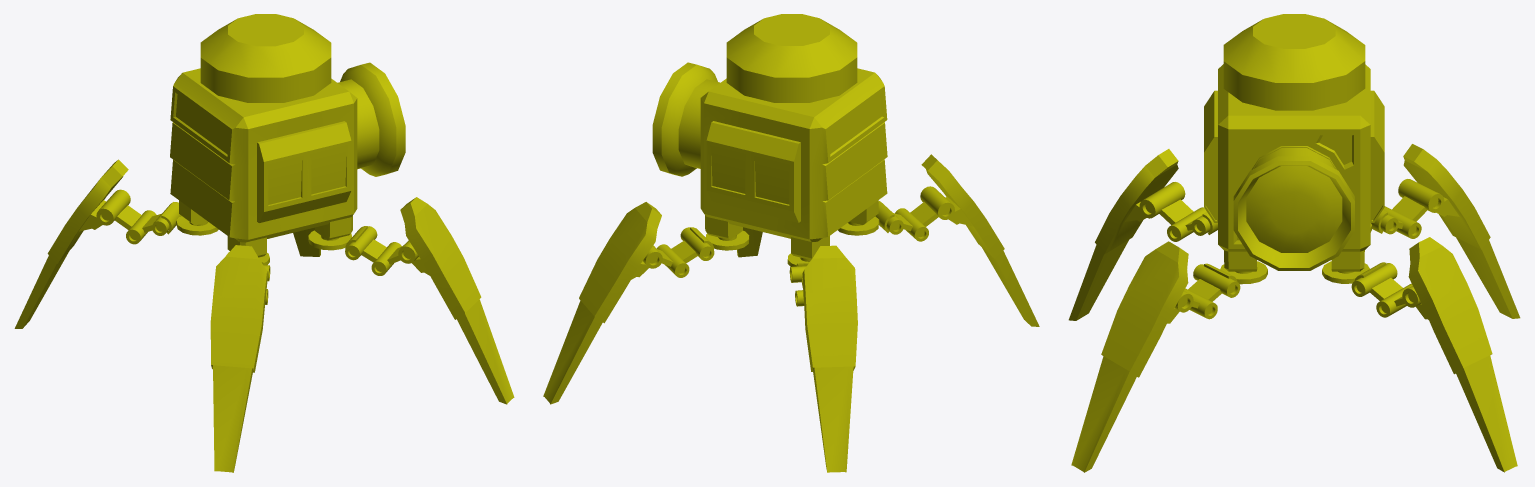
Rendered from Camerabot.glb.
3 renders of one model, left to right at view 1: azimuth 30°, elevation 25°; view 2: azimuth 150°, elevation 25°; view 3: azimuth 270°, elevation 25°, orthographic. The views are drawn at different scales.
Visible parts, largest first — view 1: Box001; view 2: Box001; view 3: Box001.
Boxes of the visible parts, x1,y1,x2,y2 form: Box001: [14, 14, 514, 472]; Box001: [543, 14, 1039, 472]; Box001: [1068, 14, 1520, 472].
Size of the model in its own units: 0.0974 by 0.1017 by 0.1153.
Materials: 1 (1 with a texture image).
